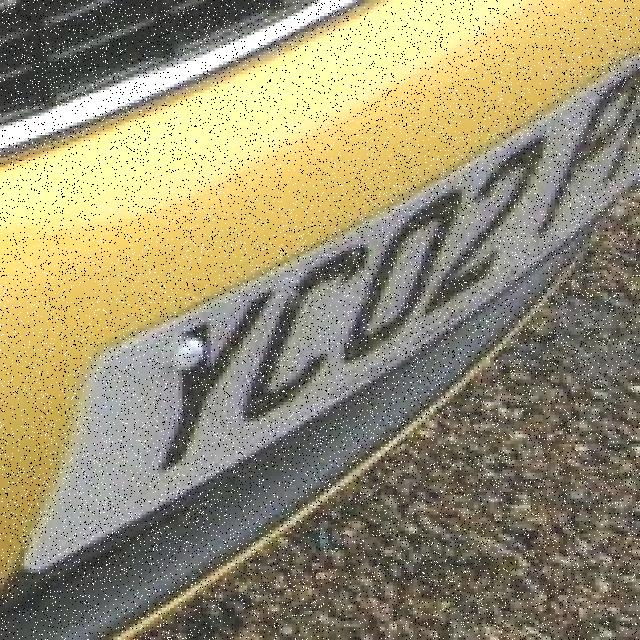licenseplate: (12, 62, 640, 580)
